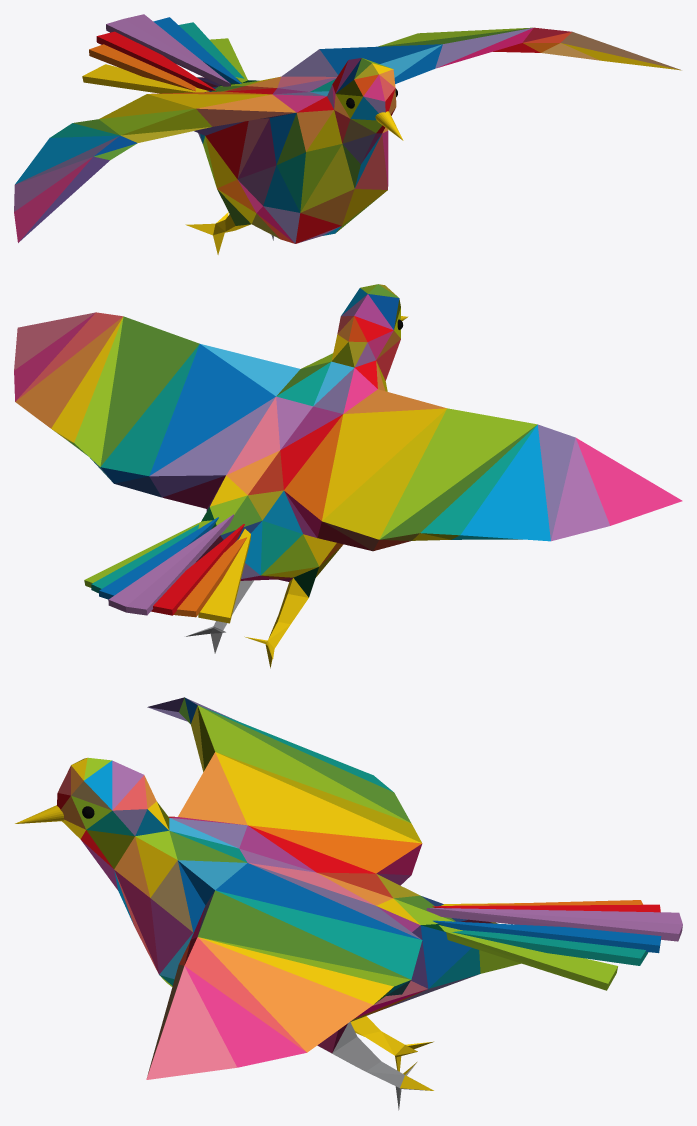
File: paloma pose t.fbx
The picture shows the model from 3 angles, top to bottom: view 1: azimuth 30°, elevation 25°; view 2: azimuth 150°, elevation 25°; view 3: azimuth 270°, elevation 25°; orthographic projection. The views are drawn at different scales.
Parts seen in each view (by area): view 1: paloma__Copy_; view 2: paloma__Copy_; view 3: paloma__Copy_.
Boxes of the visible parts, x1=… form: paloma__Copy_: x1=14, y1=14, x2=681, y2=254; paloma__Copy_: x1=14, y1=284, x2=682, y2=668; paloma__Copy_: x1=15, y1=697, x2=682, y2=1110.
Size of the model in its own units: 111 by 45.17 by 81.42.
